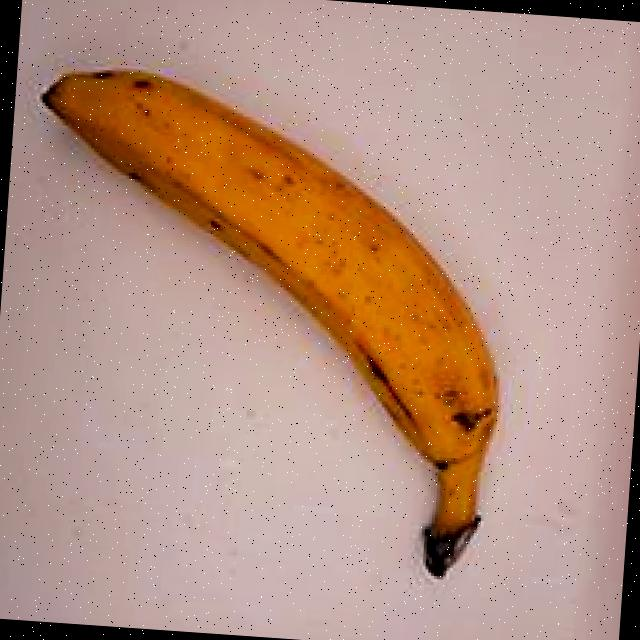Overripe: (0, 19, 565, 603)
